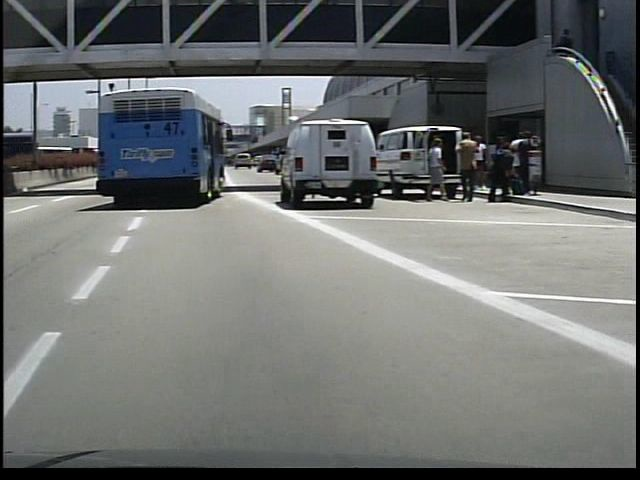person: (450, 130, 476, 205), (420, 133, 444, 202)
